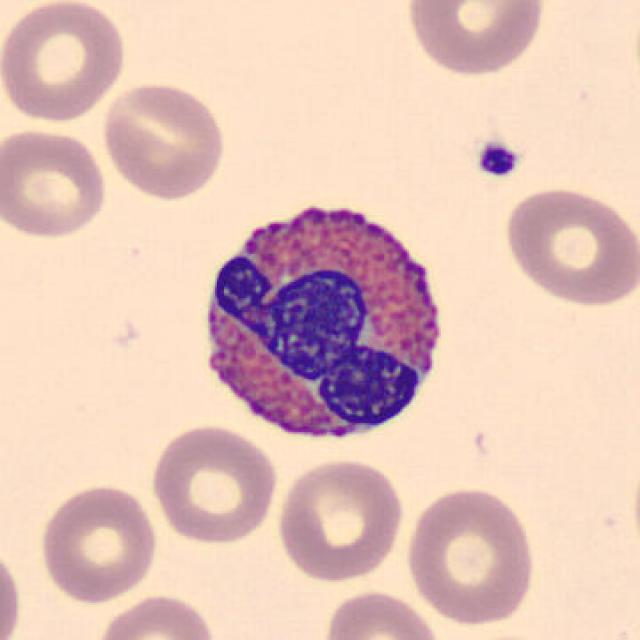Eosinophil: (188, 185, 462, 460)
Platelets: (471, 138, 523, 182)
RBC: (402, 483, 538, 628), (499, 182, 636, 308), (274, 455, 407, 583), (146, 422, 281, 546), (0, 0, 130, 125), (98, 78, 229, 202), (36, 480, 160, 604), (0, 124, 110, 242), (401, 0, 551, 79), (320, 587, 444, 640), (90, 590, 218, 640), (0, 539, 25, 640)
